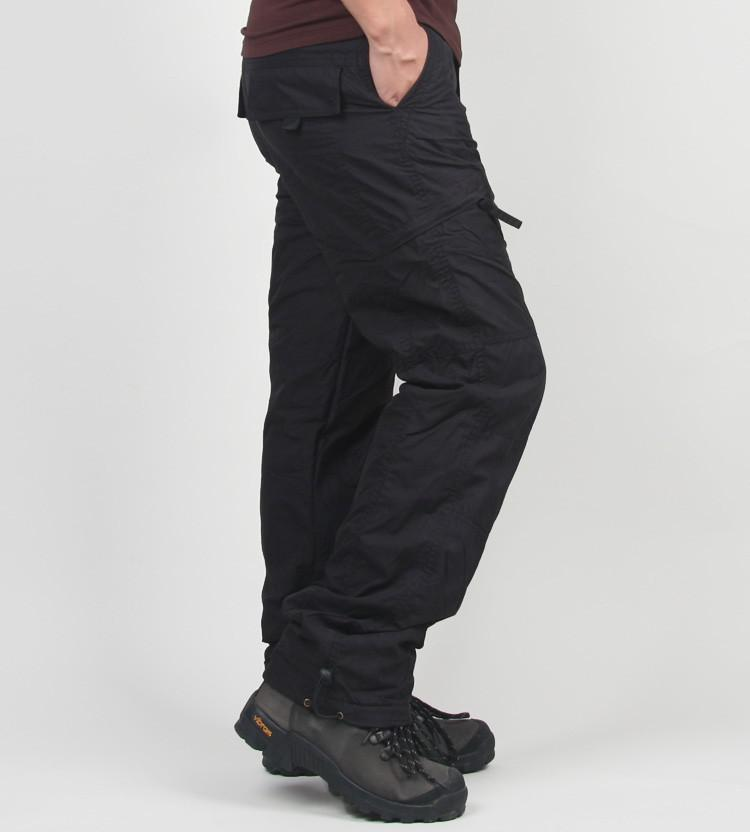pants: (223, 42, 556, 735)
